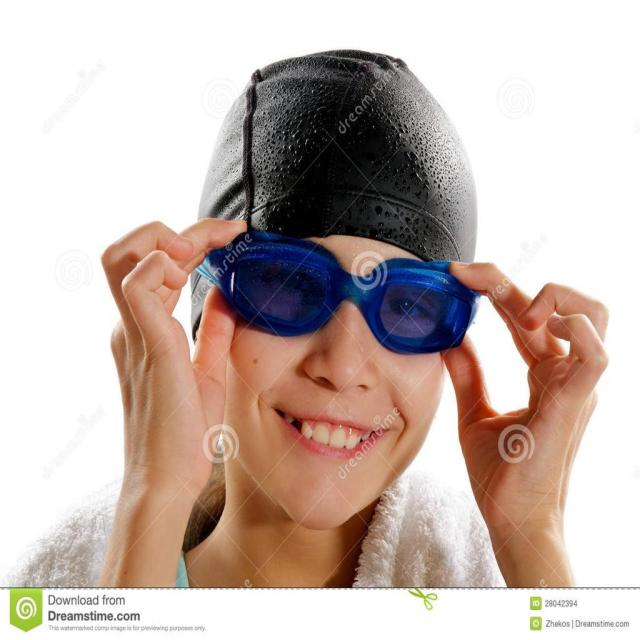nomask: (226, 174, 445, 527)
